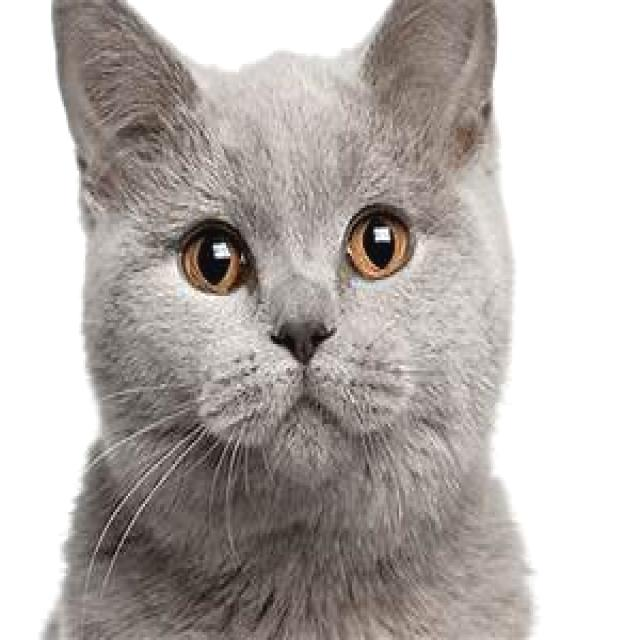KEDI: (46, 0, 543, 640)
